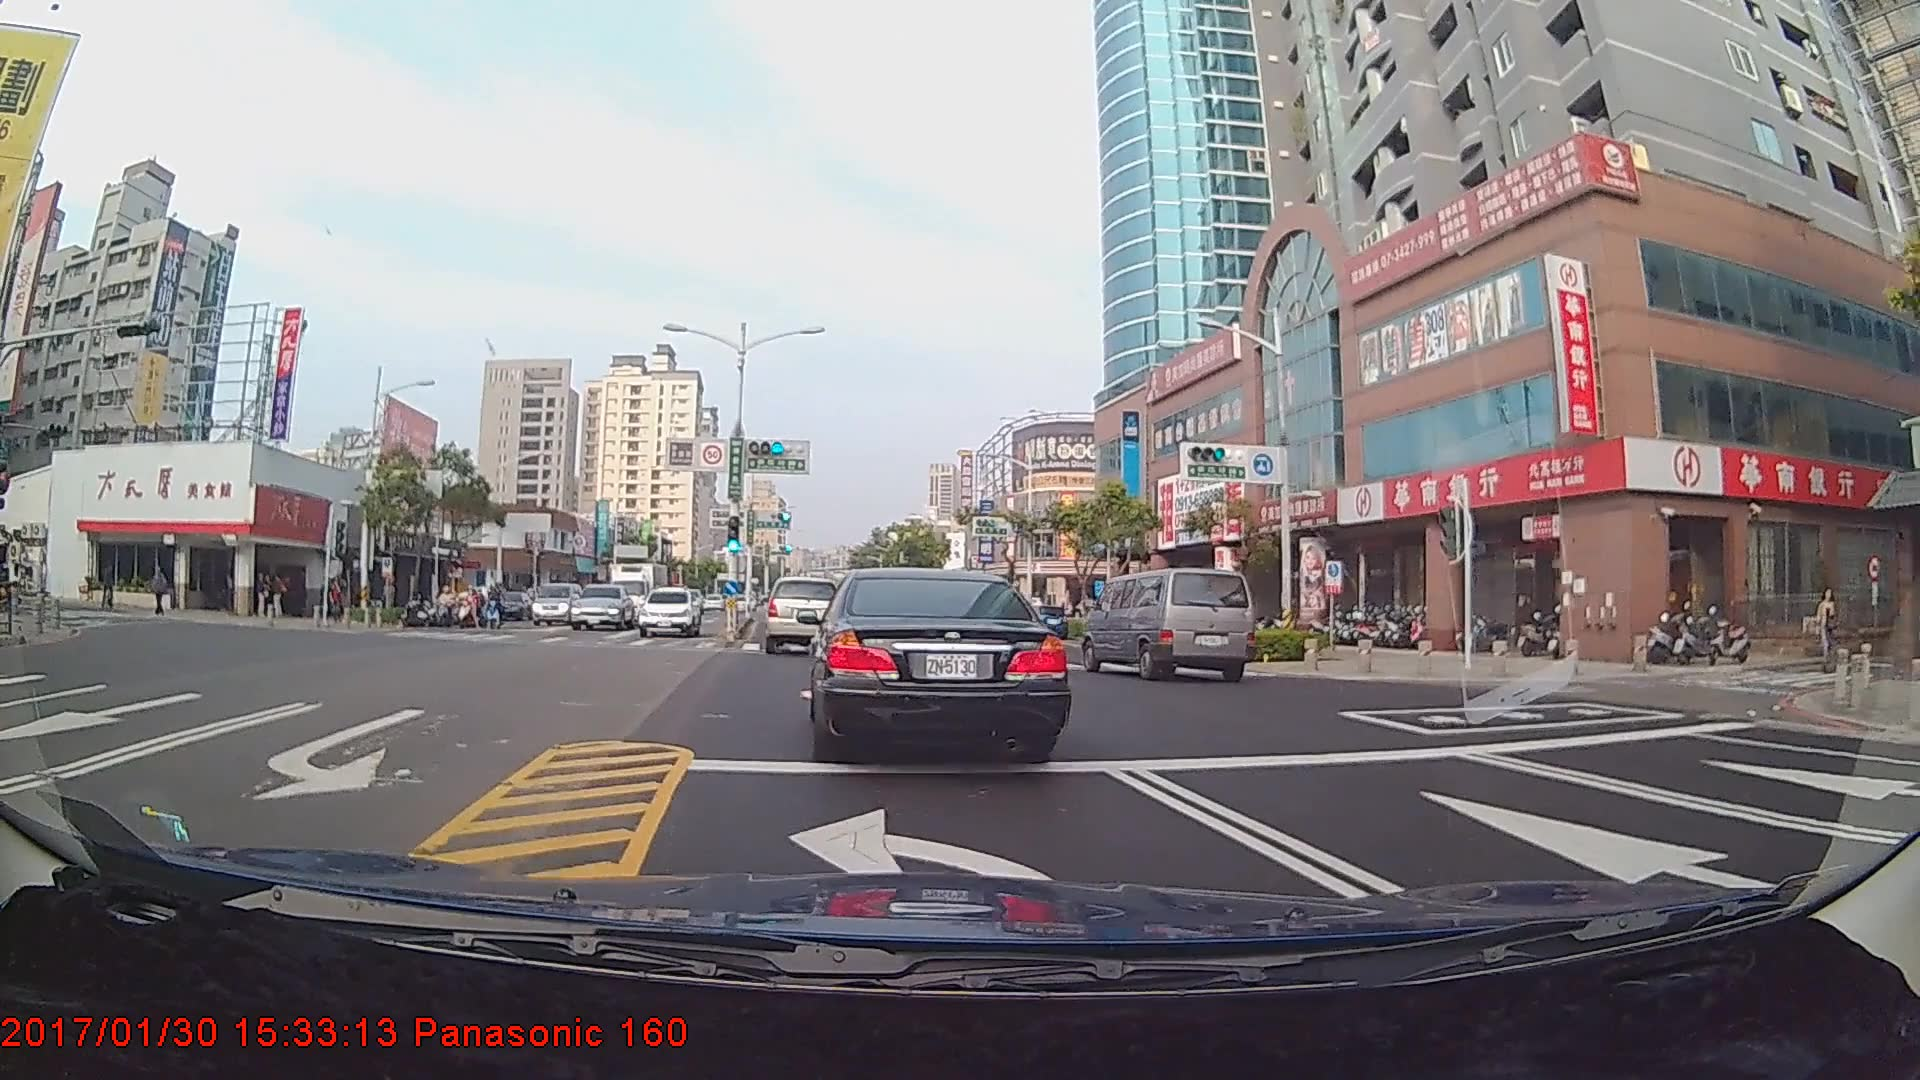pedestrian: (1815, 589, 1840, 663), (257, 571, 277, 622), (148, 566, 168, 615), (270, 574, 290, 622)
vehicle: (803, 566, 1066, 757), (1088, 564, 1251, 682), (765, 578, 843, 655), (609, 555, 671, 628), (638, 585, 702, 638), (571, 583, 637, 632), (532, 580, 587, 626), (1018, 602, 1068, 642)
